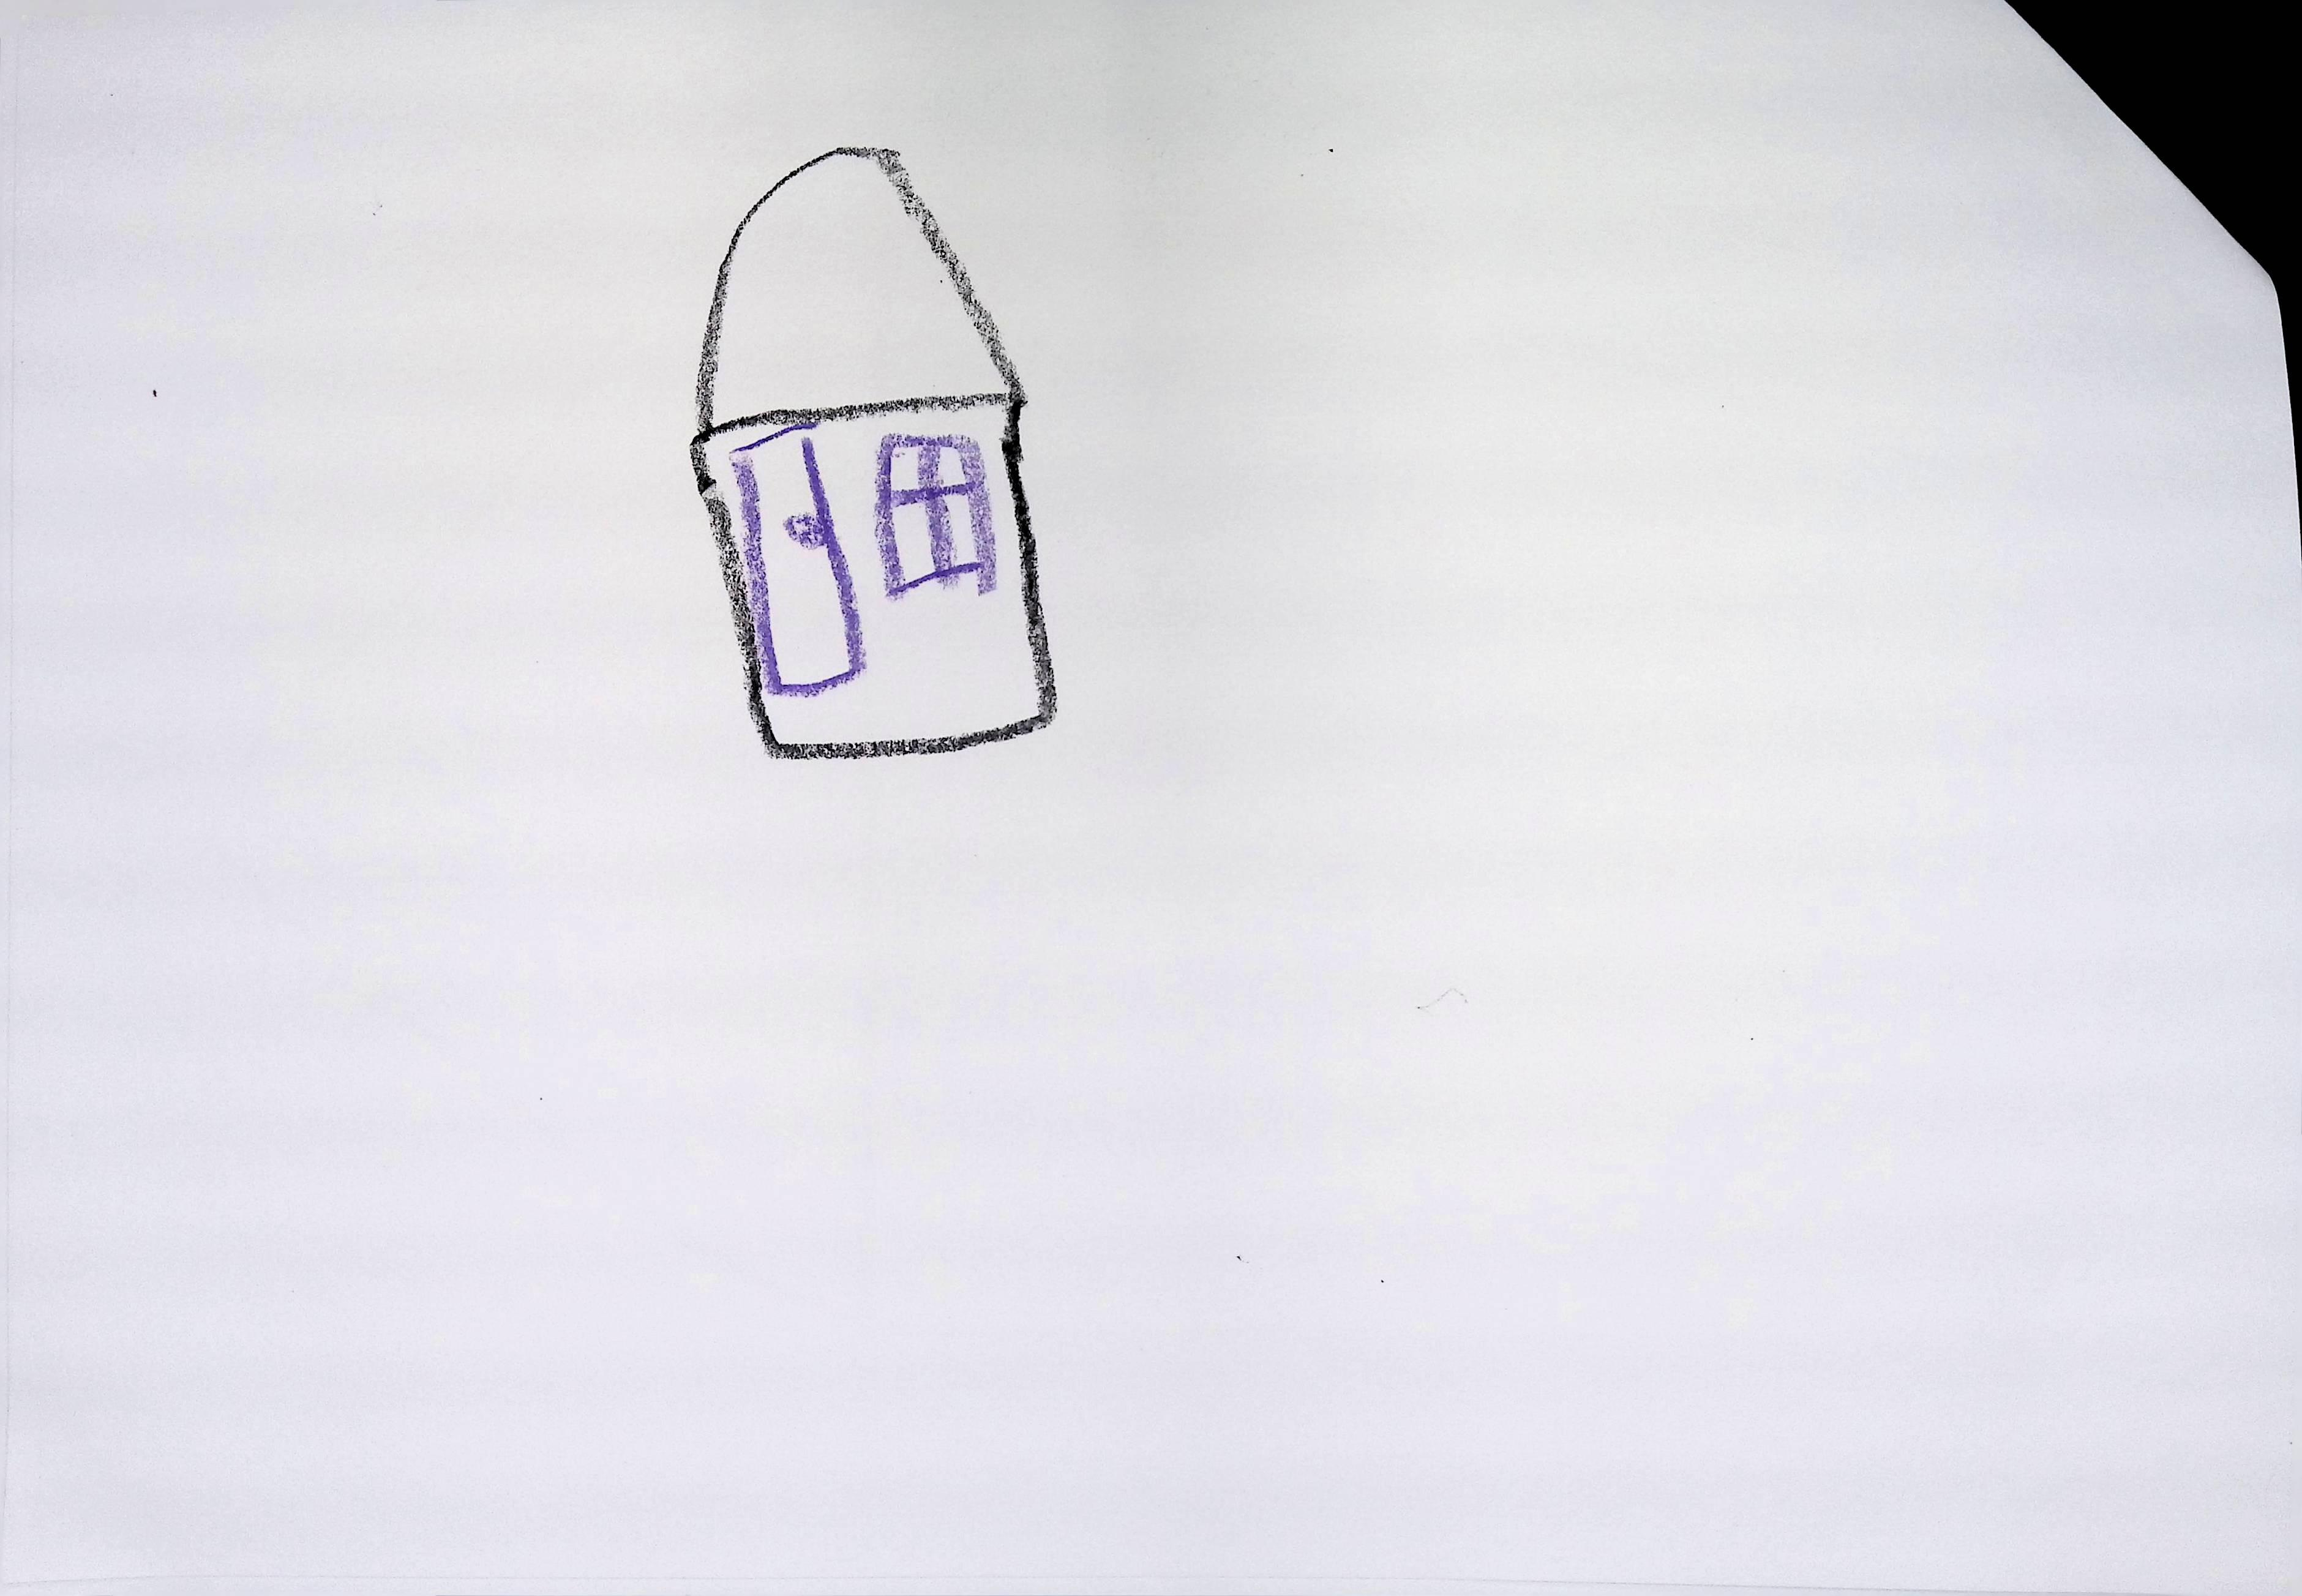door: (731, 436, 864, 695)
house: (691, 145, 1055, 756)
roof: (675, 131, 1041, 450)
wall: (693, 392, 1055, 754)
window: (864, 425, 995, 619)
